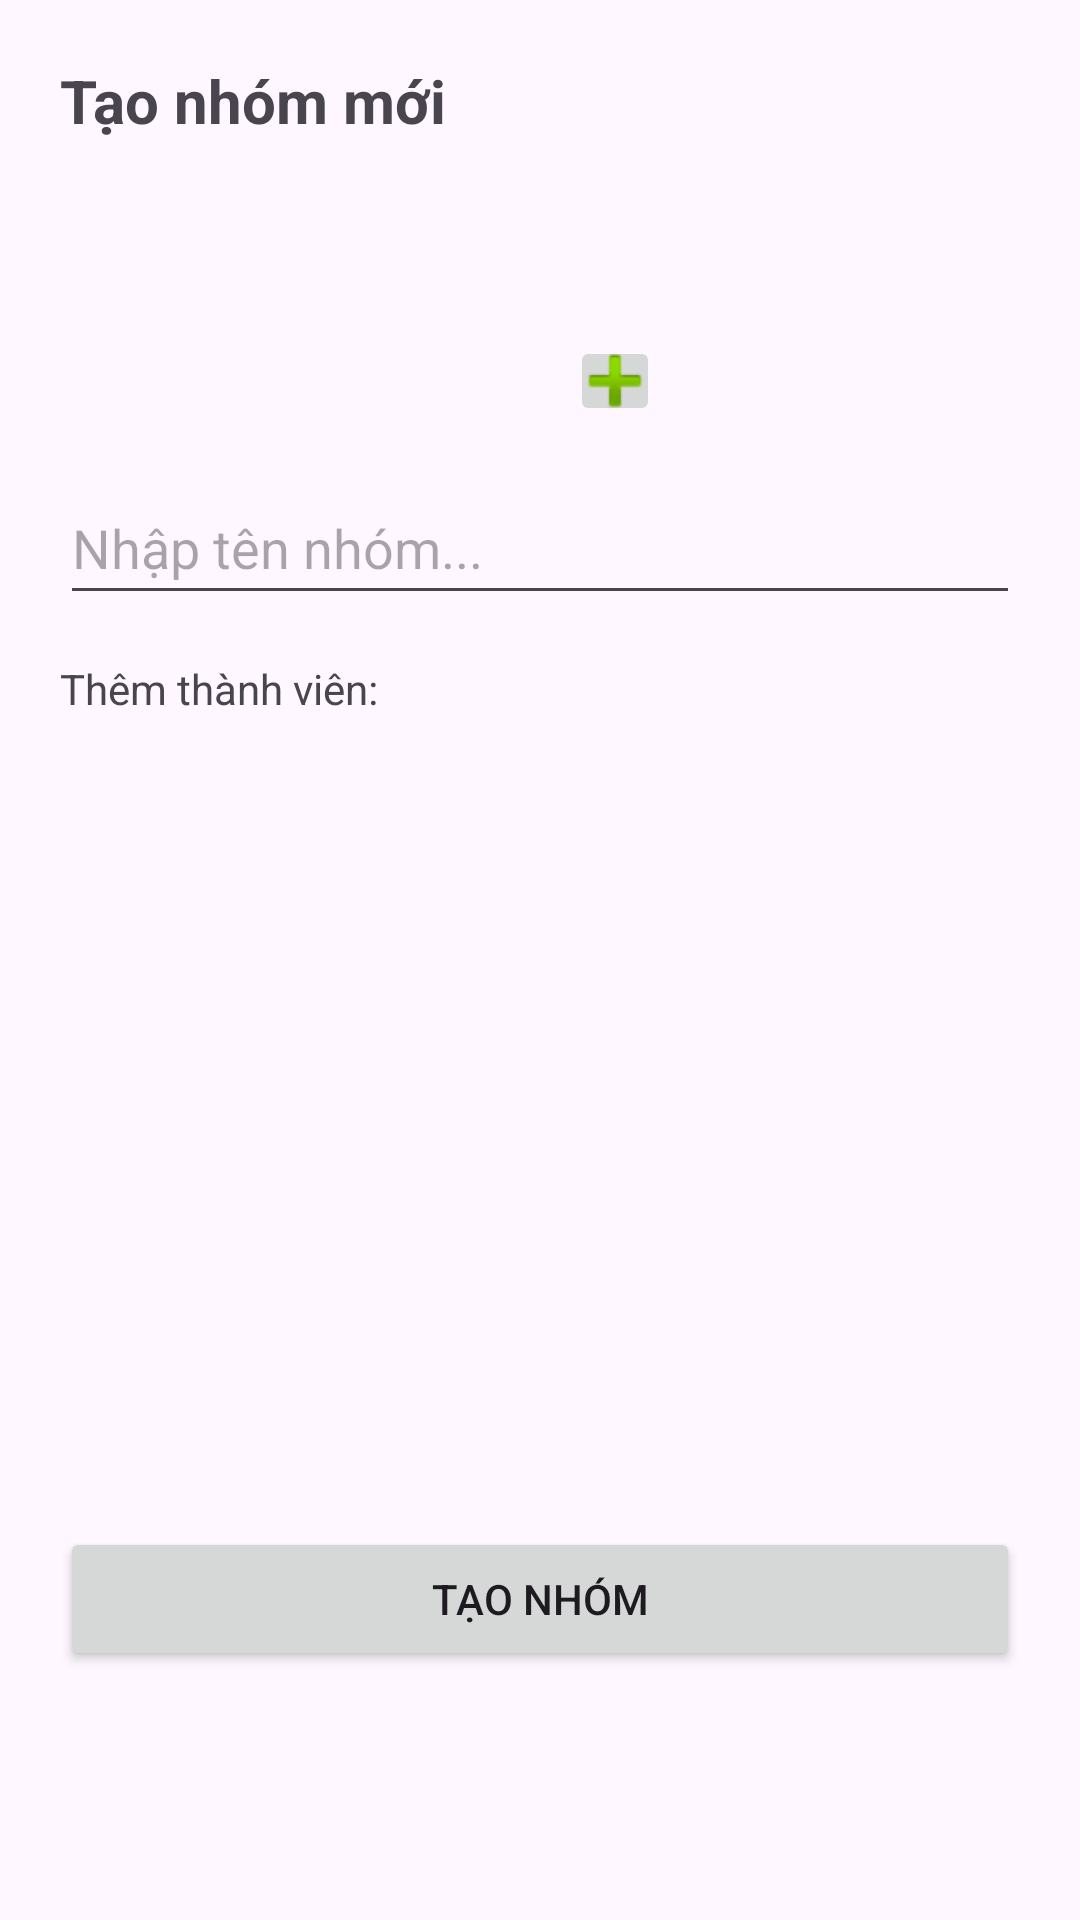

Icon click points for this 1080*1920 phone screenshot, format (x,y):
add: (615,381)
